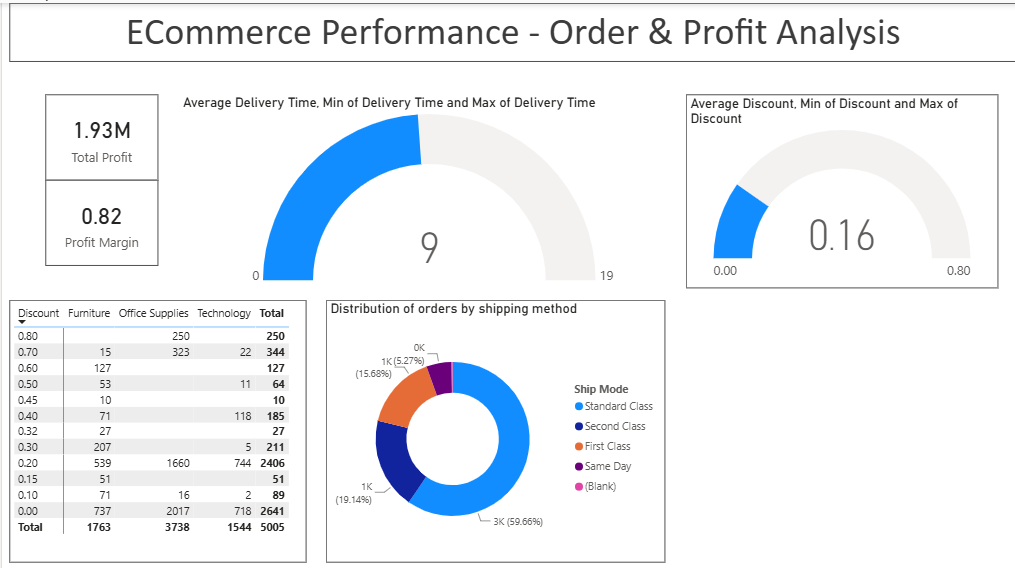

What the dashboard file says about the page in this screenshot:
{"tool":"powerbi","page":{"name":"Order & Profit Analysis","canvas":[1280,720],"ordinal":2},"visuals":[{"type":"textbox","box":[9.4,0,1269.9,73.7],"z":0},{"type":"card","fields":{"Values":["Sales.Total Profit"]},"box":[54.8,115.3,141.7,107.7],"z":1},{"type":"card","fields":{"Values":["Sales.Profit Margin"]},"box":[54.8,223,141.7,107.7],"z":2},{"type":"gauge","fields":{"MaxValue":["Max(Sales.Discount)1"],"MinValue":["Min(Sales.Discount)"],"Y":["Sales.Average Discount"]},"box":[861.7,115.3,393.1,243.8],"z":5},{"type":"pivotTable","fields":{"Columns":["Sales.Products.Category"],"Rows":["Sales.Discount"],"Values":["Sales.Total Orders"]},"box":[9.4,374.2,374.2,330.7],"z":6},{"type":"donutChart","title":"Distribution of orders by shipping method","fields":{"Category":["Sales.Ship Mode"],"Y":["Sales.Total Orders"]},"box":[408.2,374.2,427.1,330.7],"z":7},{"type":"gauge","fields":{"MaxValue":["Max(Sales.Delivery Time)1"],"MinValue":["Min(Sales.Delivery Time)"],"Y":["Sales.Average Delivery Time"]},"box":[223,115.3,638.7,243.8],"z":8}]}

Visuals, with their boxes in screenshot pixels (x1, y1, x2, y2), scaled from the page's 1280x720 canvas onto the 1015x568 screenshot:
textbox: 7, 0, 1014, 58
card - Sales.Total Profit: 43, 91, 156, 176
card - Sales.Profit Margin: 43, 176, 156, 261
gauge - Max(Sales.Discount)1 x Min(Sales.Discount): 683, 91, 995, 283
pivotTable - Sales.Products.Category x Sales.Discount: 7, 295, 304, 556
"Distribution of orders by shipping method" donutChart: 324, 295, 662, 556
gauge - Max(Sales.Delivery Time)1 x Min(Sales.Delivery Time): 177, 91, 683, 283
